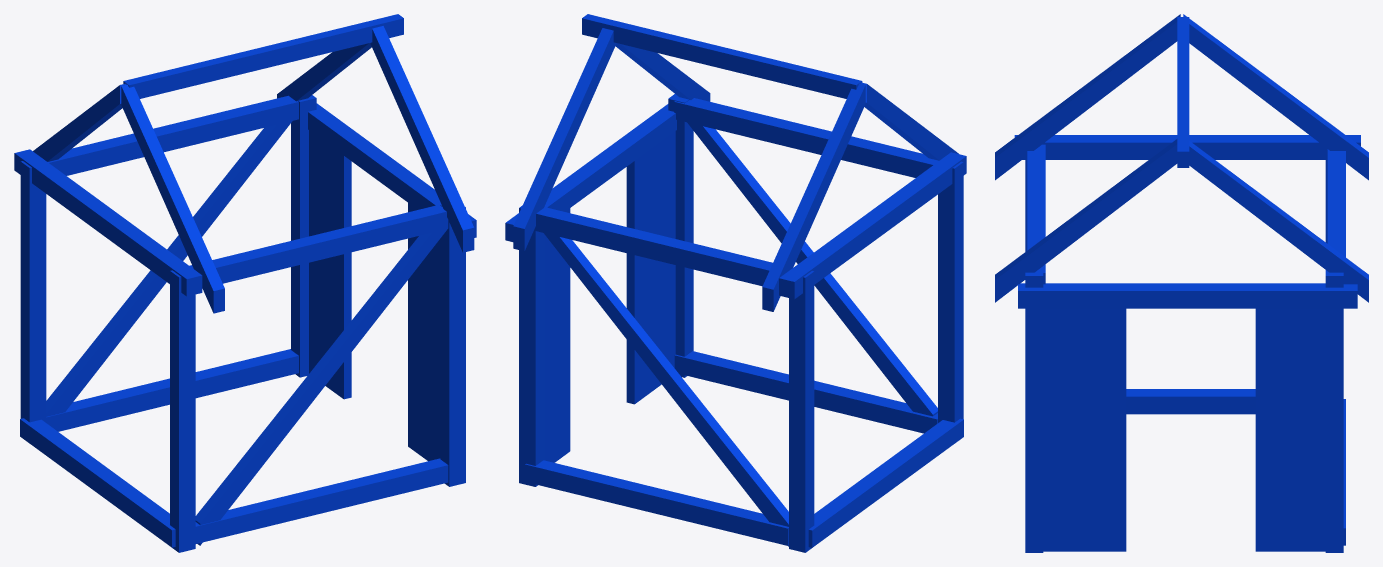
File: Hut_02.fbx
3 renders of one model, left to right at view 1: azimuth 30°, elevation 25°; view 2: azimuth 150°, elevation 25°; view 3: azimuth 270°, elevation 25°, orthographic.
Visible parts, largest first — view 1: Hut_02; view 2: Hut_02; view 3: Hut_02.
Boxes of the visible parts, box(x1,y1,x2,y2) form: Hut_02: box(14, 14, 476, 552); Hut_02: box(505, 14, 966, 552); Hut_02: box(995, 14, 1368, 552).
Bounding box in the file's own units: 346 × 441 × 366.
